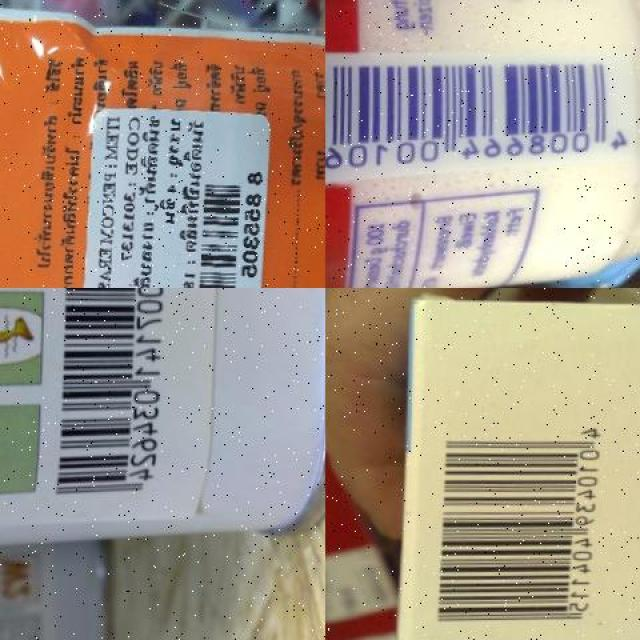Barcode: (325, 47, 640, 188), (428, 418, 620, 638), (50, 288, 178, 503), (195, 163, 261, 288)
